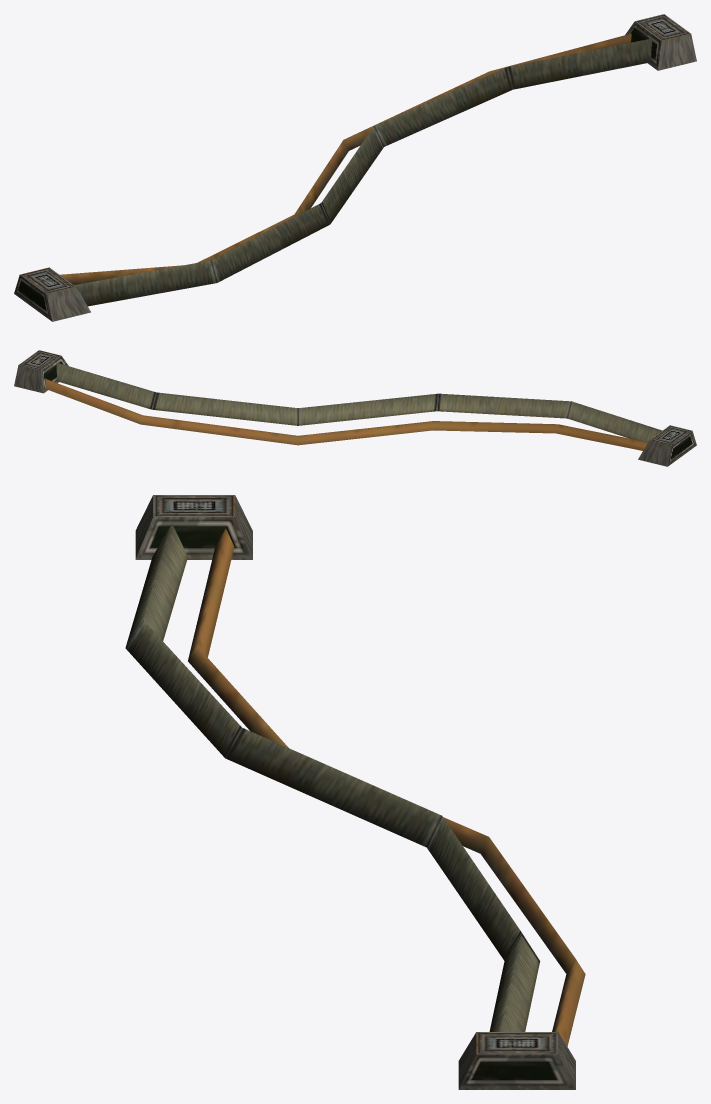
Rendered from M12_GroundWire.glb.
The picture shows the model from 3 angles, top to bottom: view 1: azimuth 30°, elevation 25°; view 2: azimuth 150°, elevation 25°; view 3: azimuth 270°, elevation 25°; orthographic projection. The views are drawn at different scales.
Visible parts, largest first — view 1: M12_GROUNDWIRE; view 2: M12_GROUNDWIRE; view 3: M12_GROUNDWIRE.
Part boxes in pixels (x1,y1,x2,y2): M12_GROUNDWIRE: (14, 14, 696, 321); M12_GROUNDWIRE: (14, 350, 696, 466); M12_GROUNDWIRE: (125, 495, 585, 1089).
Size of the model in its own units: 2.48 by 0.111 by 0.863.
Materials: 1 (1 with a texture image).
